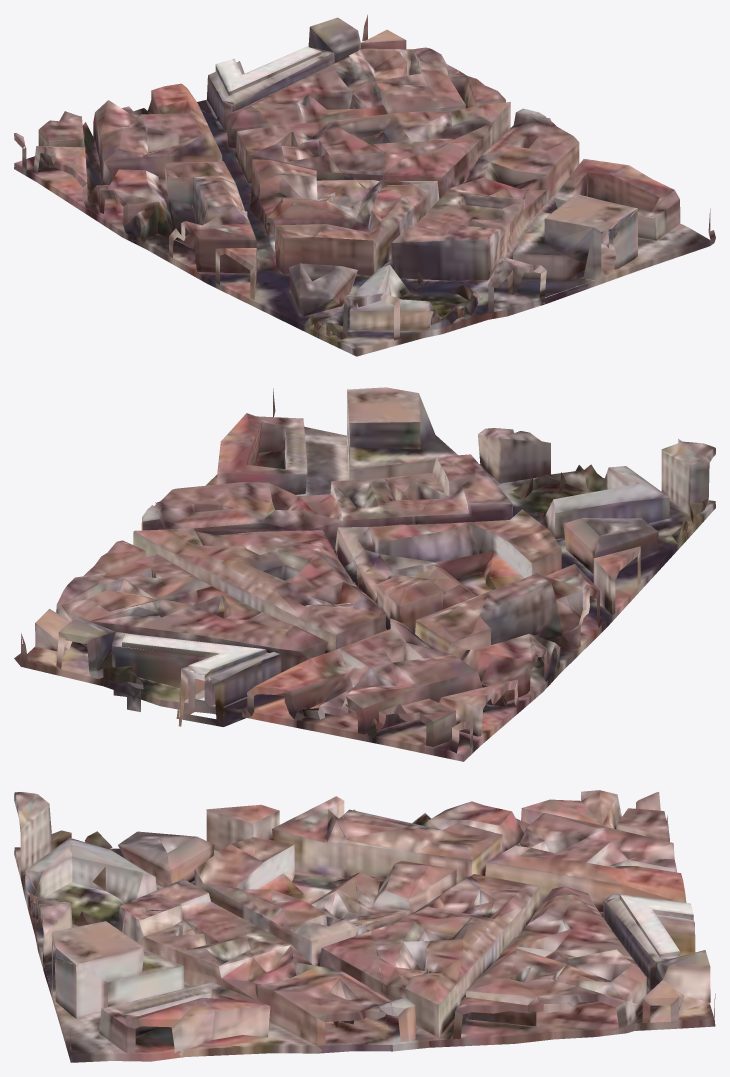
3 views of the same model, one above another, from view 1: azimuth 30°, elevation 25°; view 2: azimuth 150°, elevation 25°; view 3: azimuth 270°, elevation 25° (orthographic). The views are drawn at different scales.
Visible parts, largest first — view 1: Mesh_0; view 2: Mesh_0; view 3: Mesh_0.
Part boxes in pixels (left/top/right/bottom): Mesh_0: left=14, top=14, right=715, bottom=356; Mesh_0: left=14, top=387, right=715, bottom=761; Mesh_0: left=14, top=790, right=715, bottom=1062.
Bounding box in the file's own units: 270 × 47.02 × 330.
Materials: 1 (1 with a texture image).
